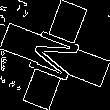M_E: (23, 24, 87, 86)
